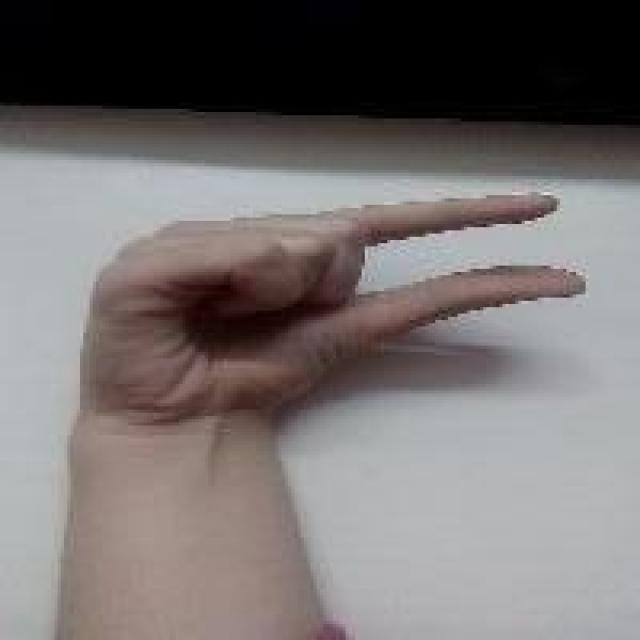G: (70, 184, 592, 418)
